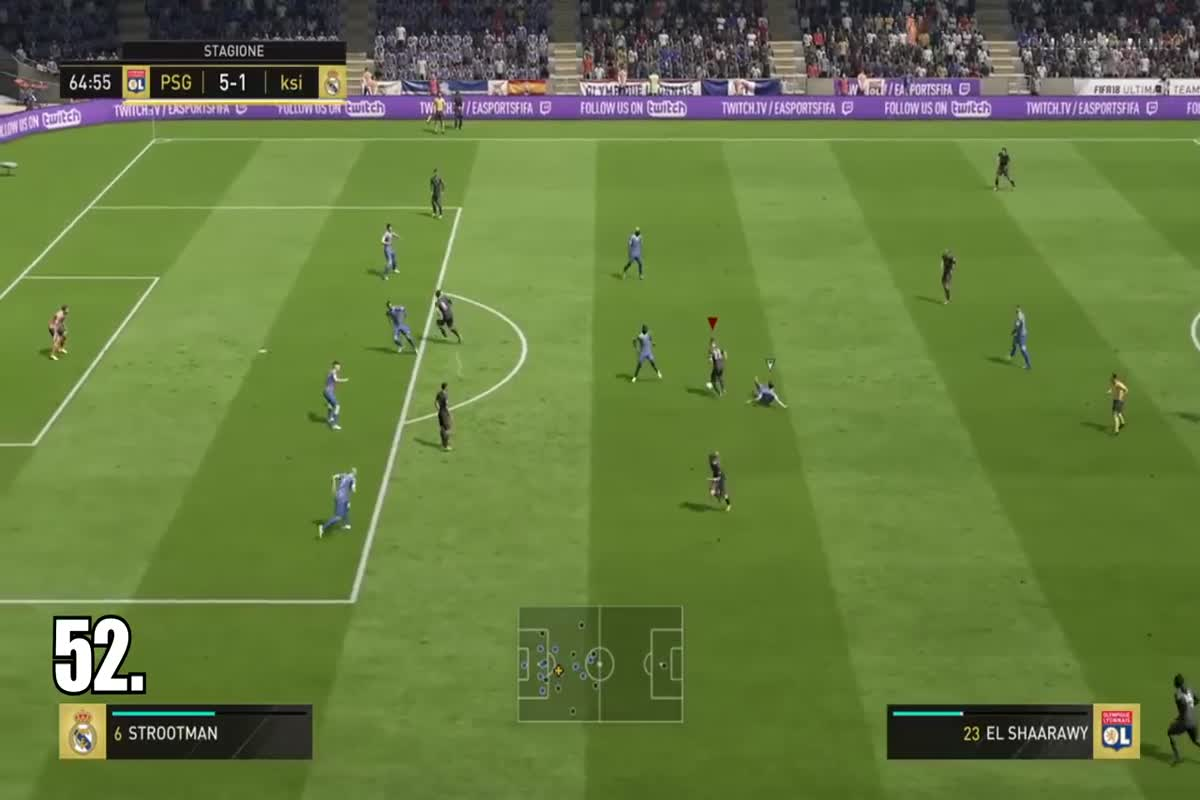ball: (697, 377, 716, 394)
